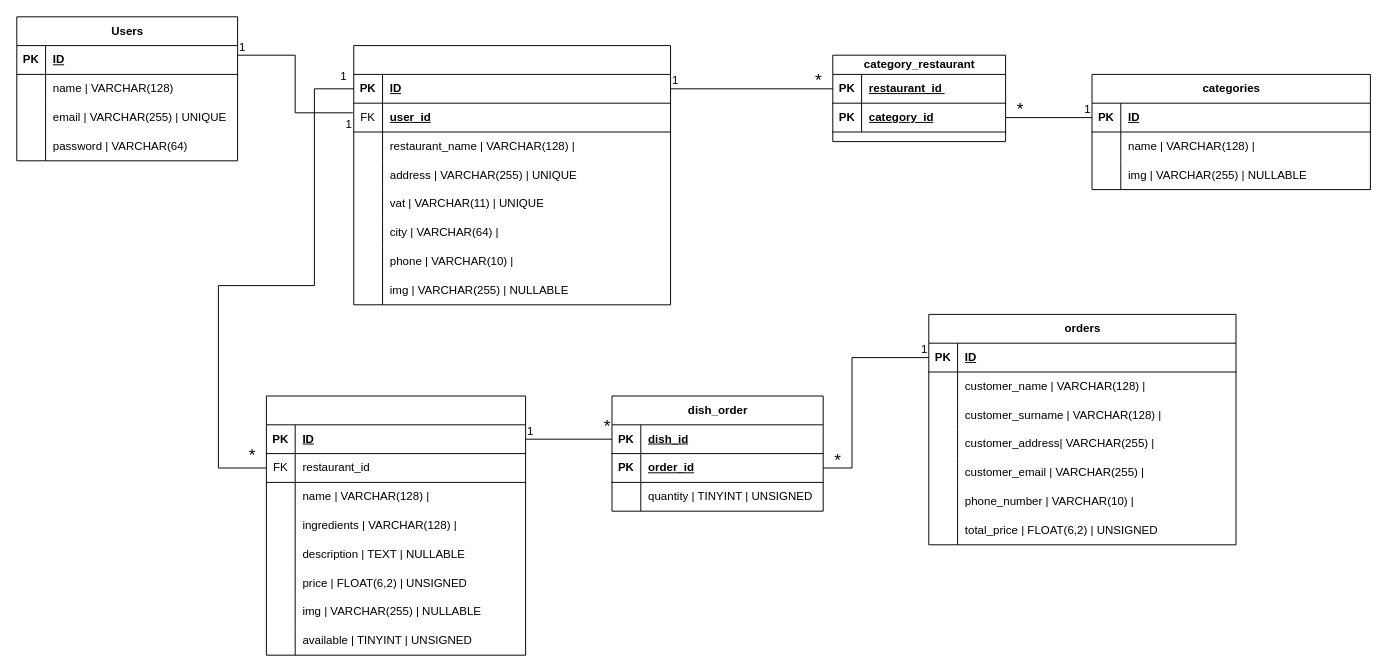
The diagram is 1387 pixels wide and 672 high, and some of its shapes have lost their labels. The shapes that lost their labels are listed below. From the top down, each one's box as (x1, y1, x2, y2) in pixels, then its label:
(353, 45, 671, 305): restaurants
(265, 395, 526, 655): dishes
